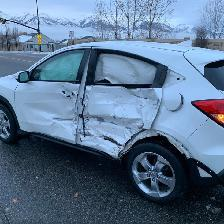dent: (71, 93, 178, 152)
